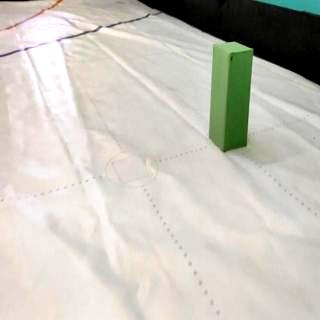greenbox: (207, 40, 254, 154)
